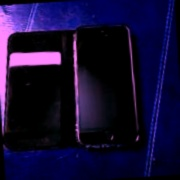iphone: (72, 21, 141, 147)
